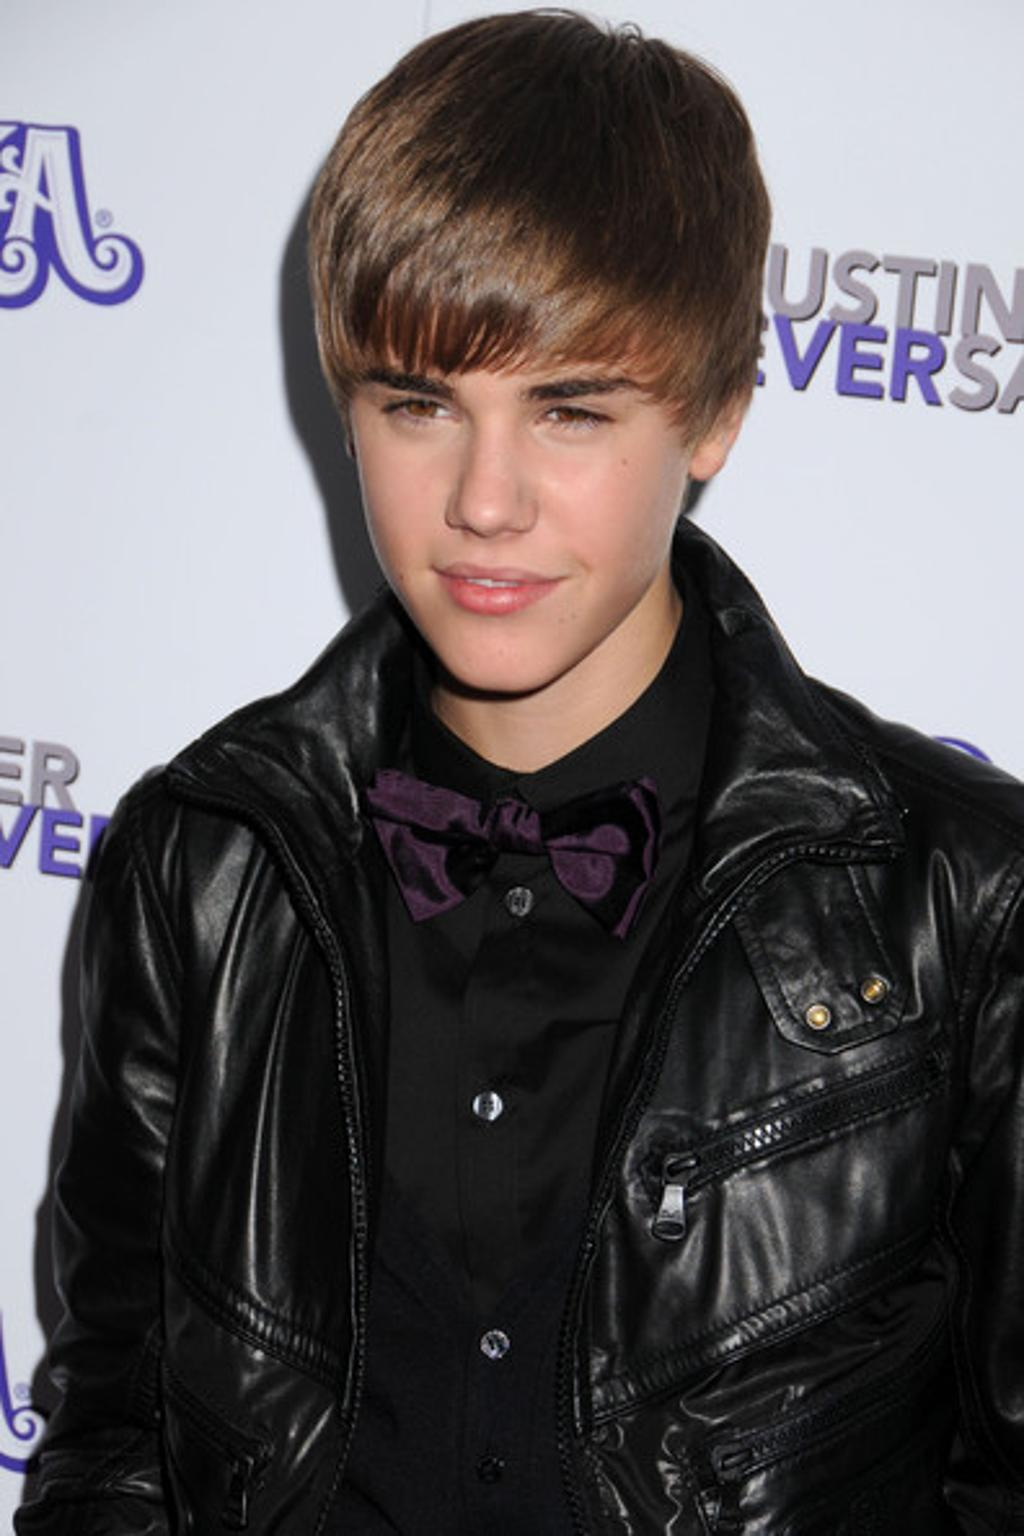face: (345, 252, 687, 699)
